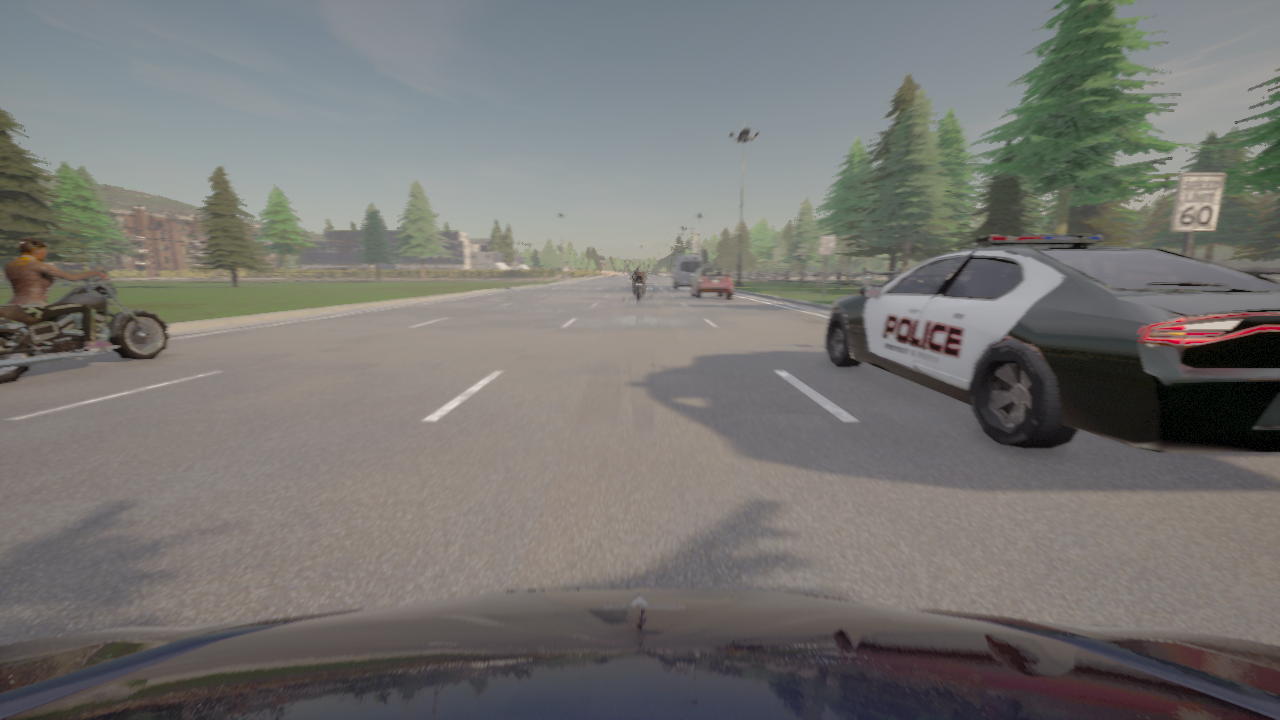cyclist: (0, 588, 1279, 719), (826, 235, 1279, 452), (0, 269, 169, 385), (690, 265, 733, 298), (670, 255, 702, 289), (634, 275, 645, 299)
